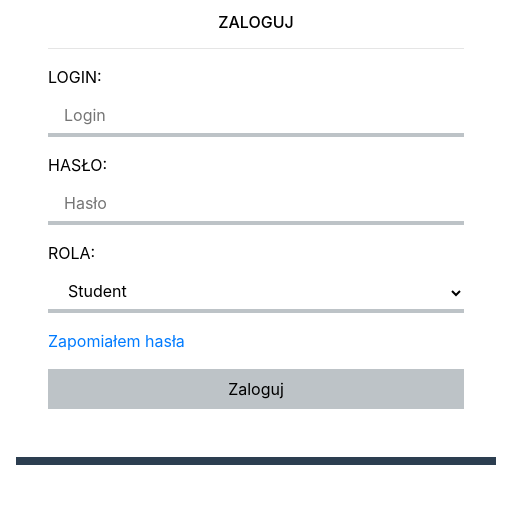
Test case: test if login and password is empty
The width and height of the screenshot is (513, 530).
Click the button "Zaloguj".
click(256, 389)  # box [48, 369, 464, 409]
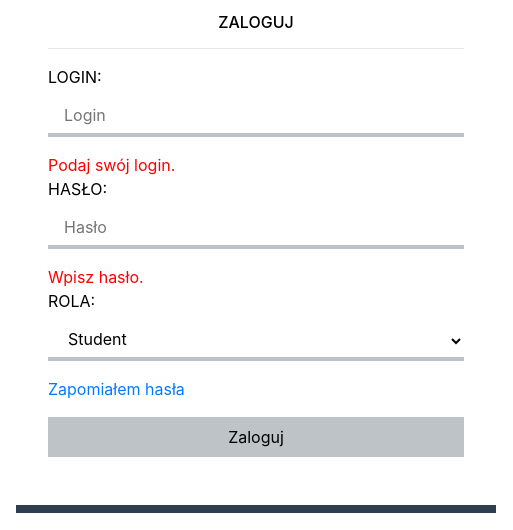
Check: the text "Podaj swój login." is shown, box [48, 155, 175, 175]
Check: the text "Wpisz hasło." is shown, box [48, 267, 144, 287]
